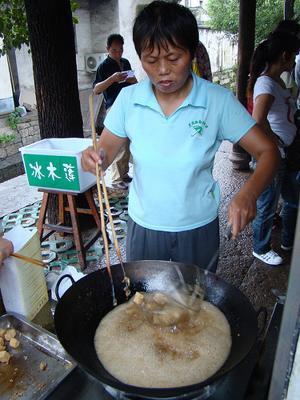person: (84, 2, 282, 274)
